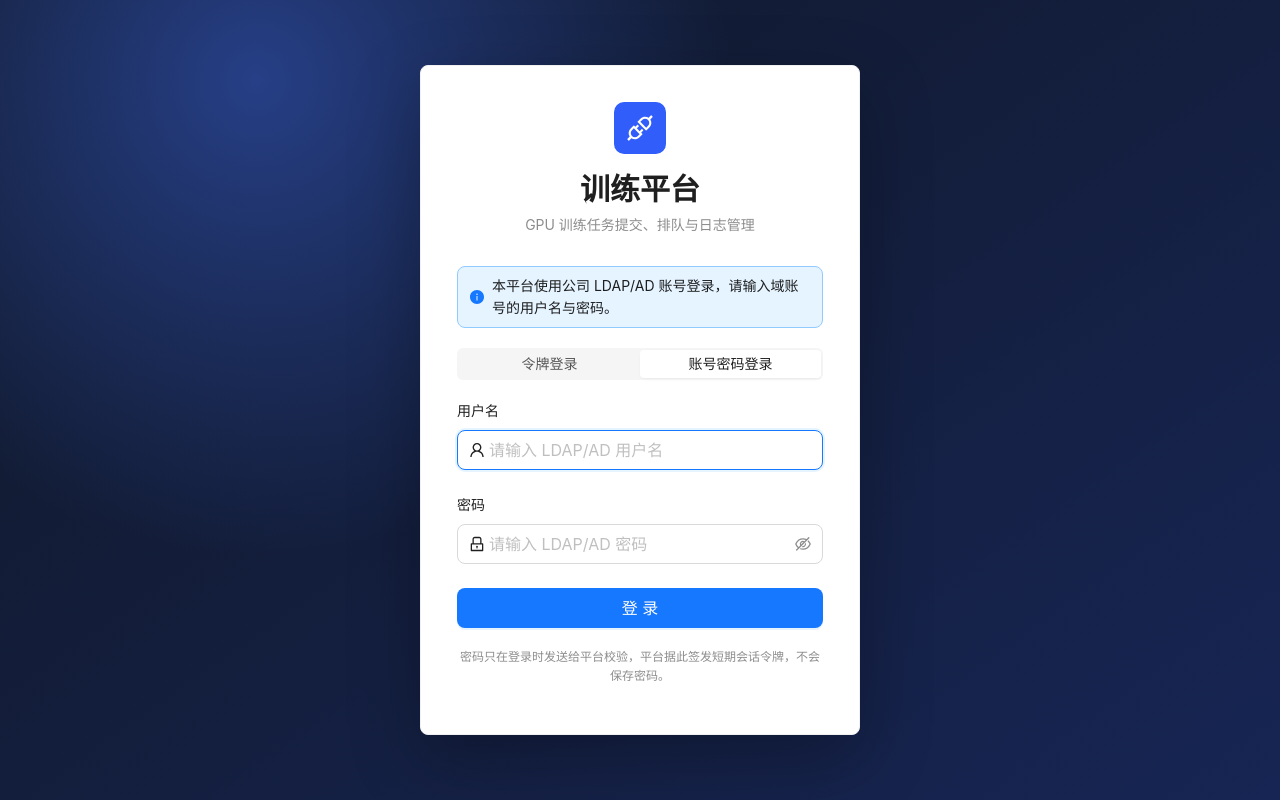
it: LoginPage › LDAP 不可达（503）时提示认证服务不可用而不是密码错误
In the field labelled "用户名": (650, 450) [489,438,811,462], type "alice"
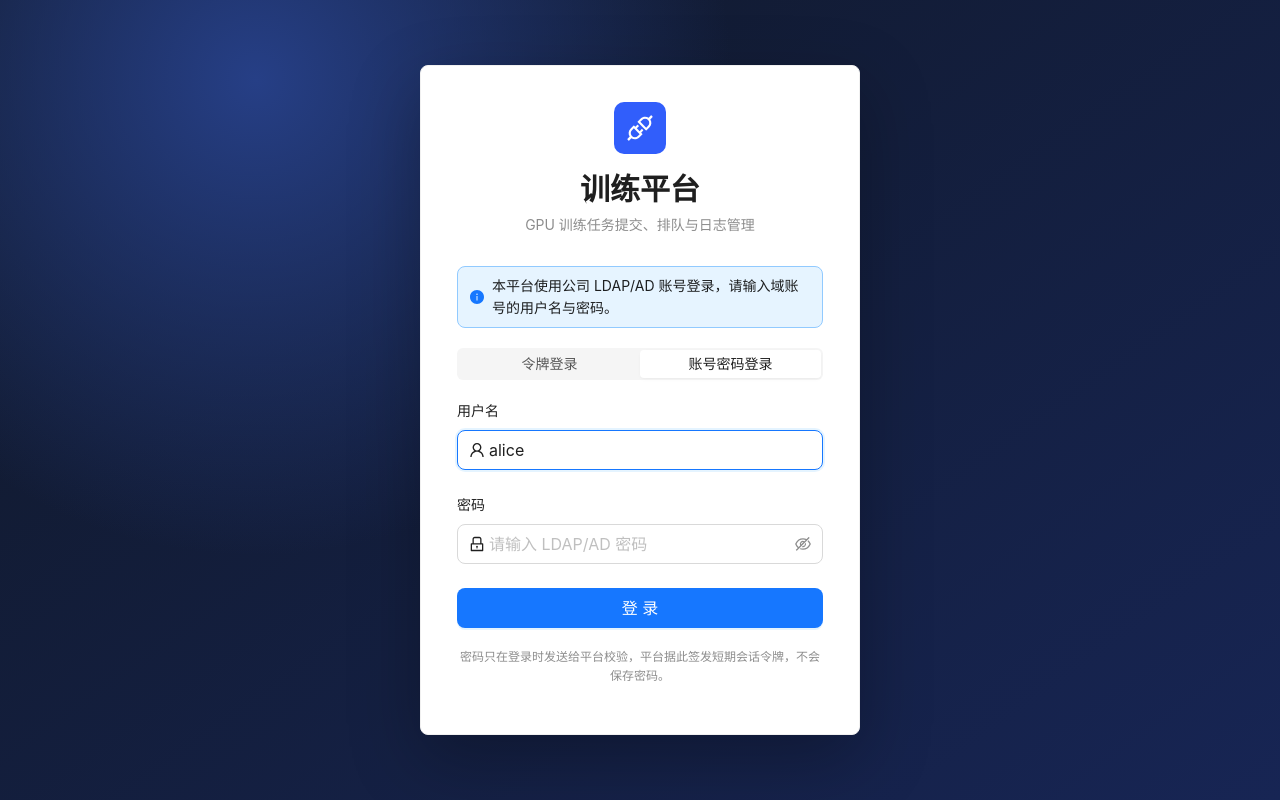
In the password field labelled "密码": (640, 544) [489,532,791,556], type "secret"
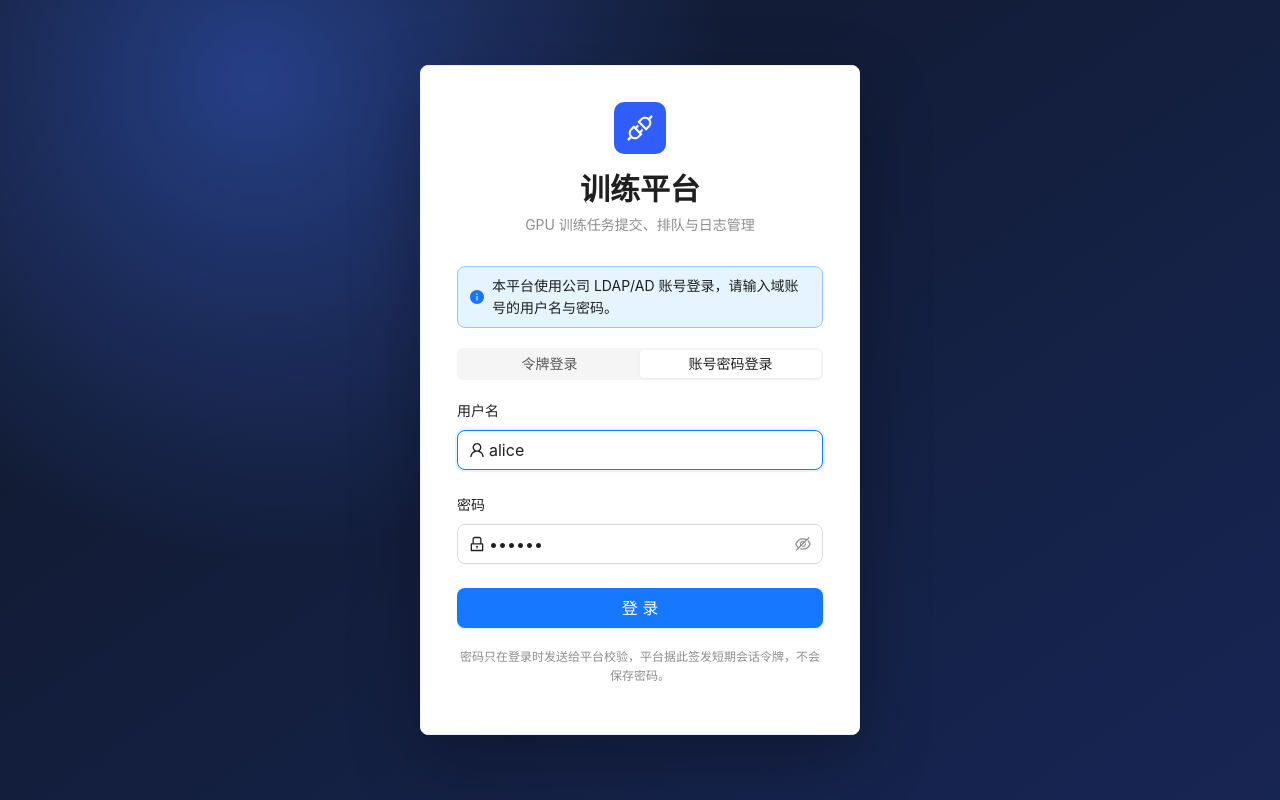
Click the button "登 录": (640, 608) [457,588,823,628]
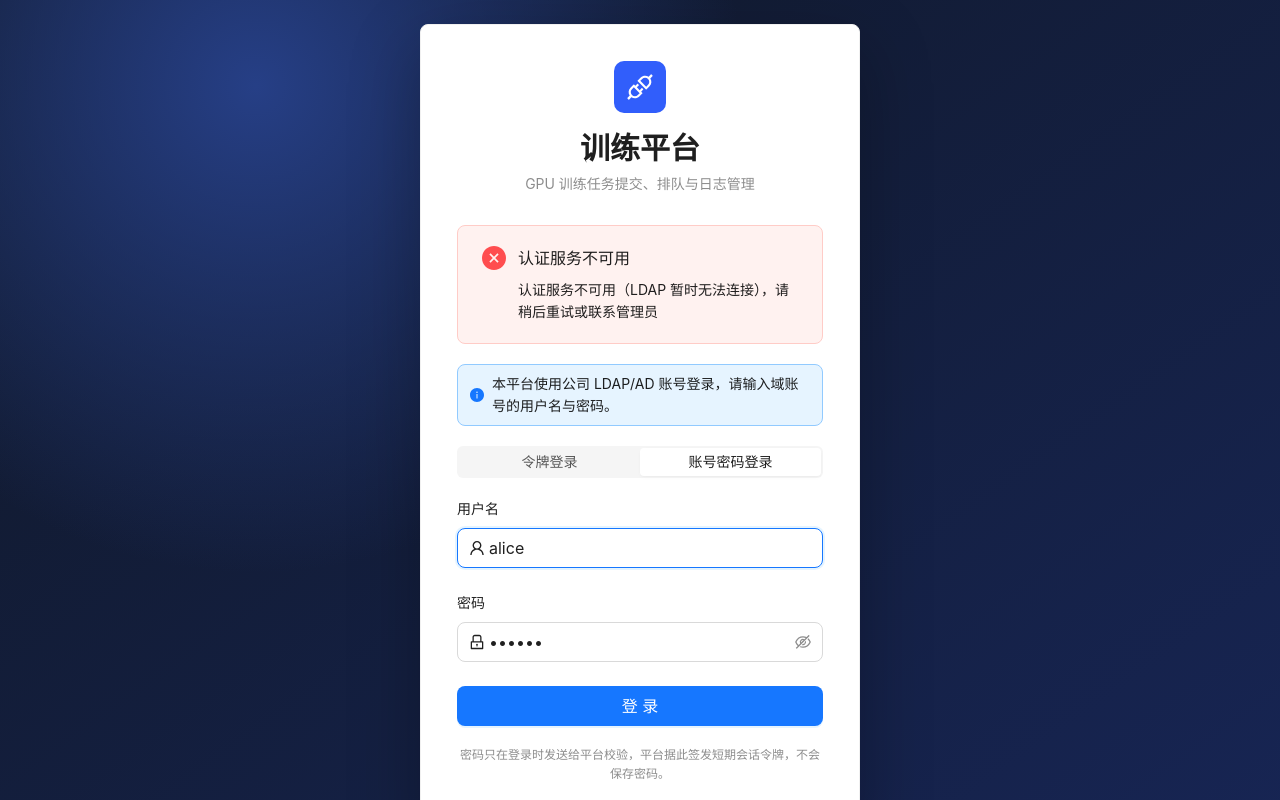
Expected: the text "认证服务不可用" is shown, [518,248,630,268]
Expected: the text "认证服务不可用（LDAP 暂时无法连接），请稍后重试或联系管理员" is shown, [518,279,798,323]
